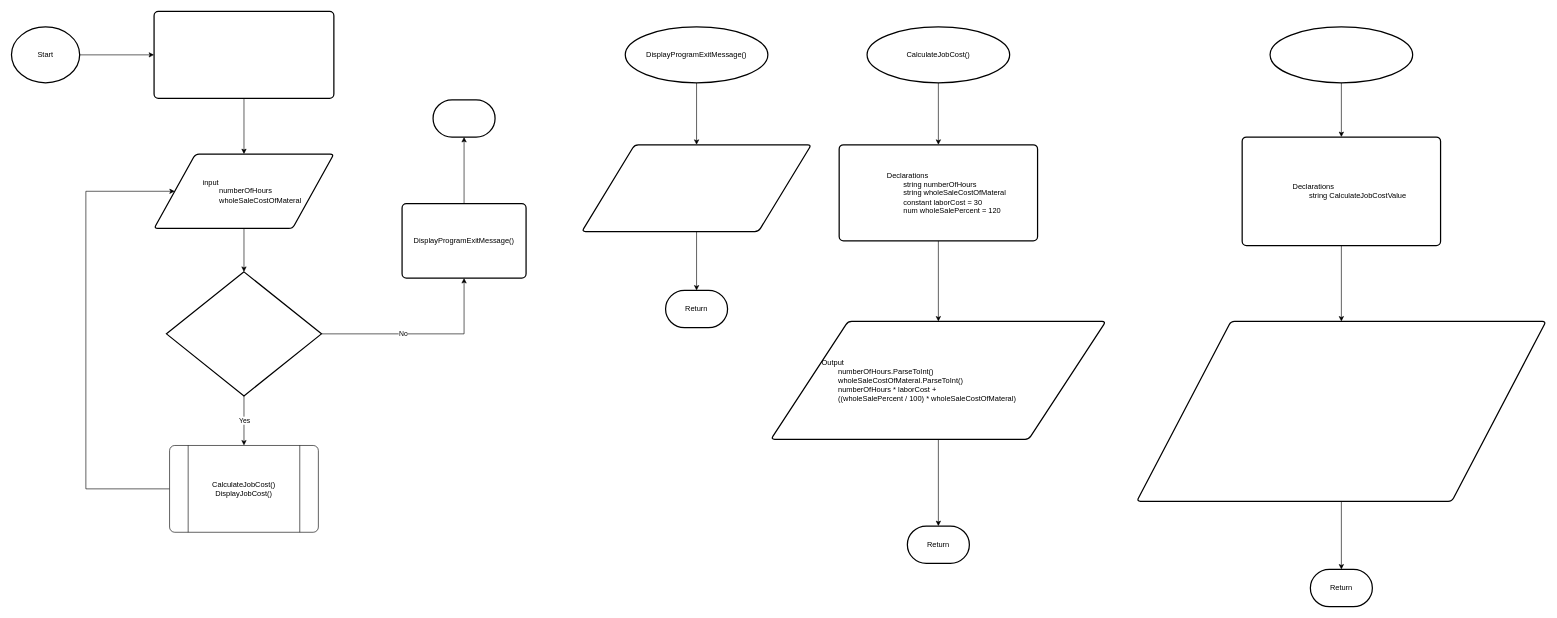
This 1557x618 diagram has some shape labels left out. Here are the shapes that lost their labels. From the top down, the box of each, then its label:
(153, 11, 334, 99): Declarations string numberOfHours string wholeSaleCostOfMateral
(1269, 26, 1413, 83): DisplayJobCost()
(432, 99, 495, 137): End
(581, 144, 812, 232): Output Program exiting...
(166, 271, 322, 396): If numberOfHours is not 0
(1136, 321, 1546, 502): Output Job cost: CalculateJobCostValue
